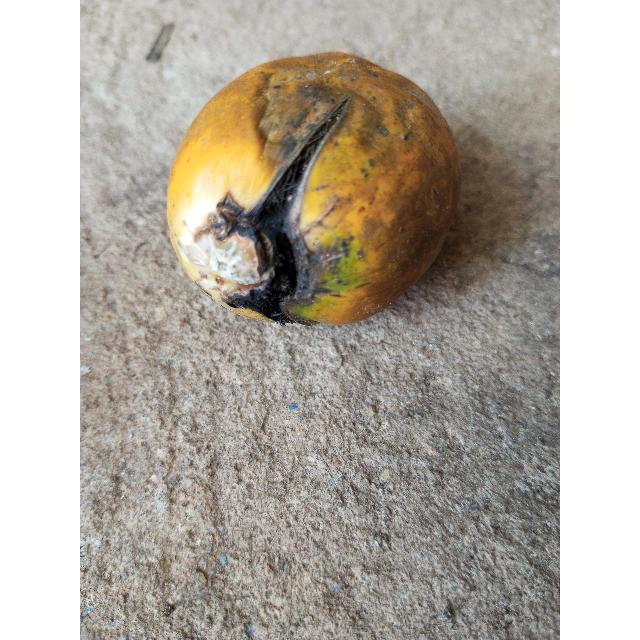damaged: (165, 52, 461, 328)
